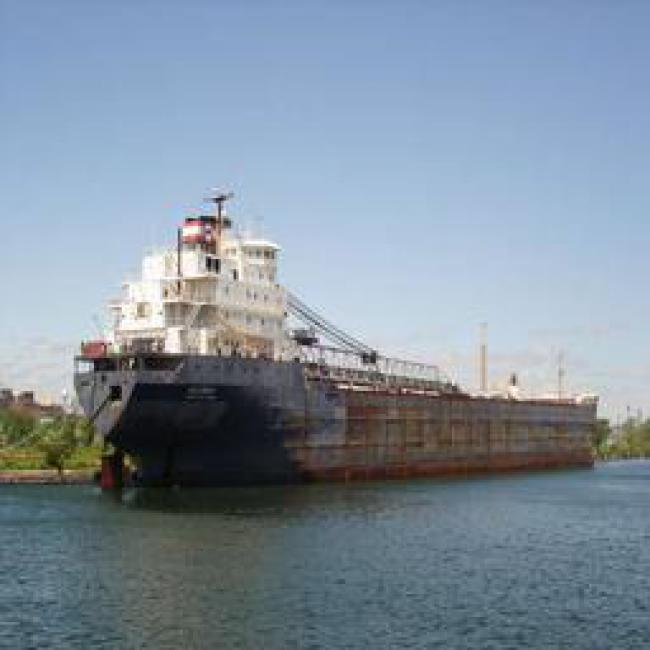Ship: (64, 215, 605, 485)
